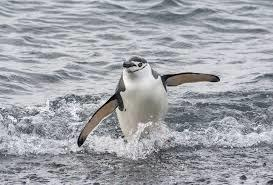chinstrap: (69, 49, 221, 162)
